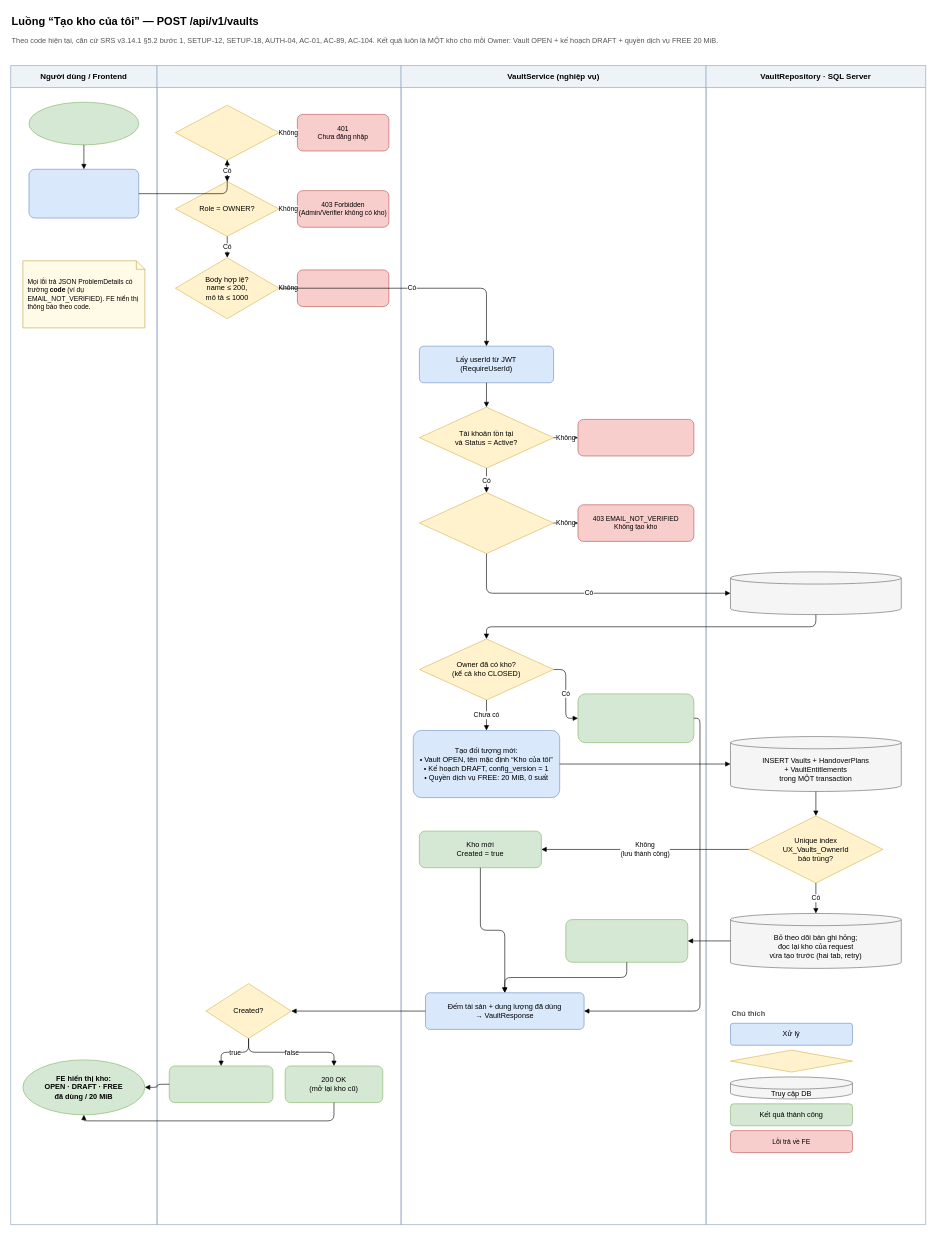
The diagram is 936 pixels wide and 1235 high, and some of its shapes have lost their labels. The shapes that lost their labels are listed below. From the top down, each one's box as (x1, y1, x2, y2) in pixels, then its label:
(28, 102, 139, 145): Owner bấm “Tạo kho của tôi”
(175, 105, 279, 160): Access token hợp lệ?
(28, 169, 139, 218): Gửi POST /api/v1/vaults body tùy chọn: { name?, description? }
(297, 269, 389, 307): 400 VALIDATION_ERROR
(577, 419, 694, 456): 403 ACCOUNT_NOT_ACTIVE
(419, 492, 554, 554): Email đã xác minh? (AUTH-04, AC-01)
(730, 571, 901, 615): Tìm kho theo OwnerId (kèm kế hoạch và quyền dịch vụ)
(156, 65, 401, 1225): API · VaultsController
(577, 693, 694, 743): Mở lại kho cũ Created = false (SETUP-12, AC-104)
(565, 919, 688, 962): Trả kho request kia vừa tạo, Created = false (AC-89)
(730, 1050, 852, 1072): Điều kiện
(169, 1065, 273, 1103): 201 Created + Location: /vaults/{id}
